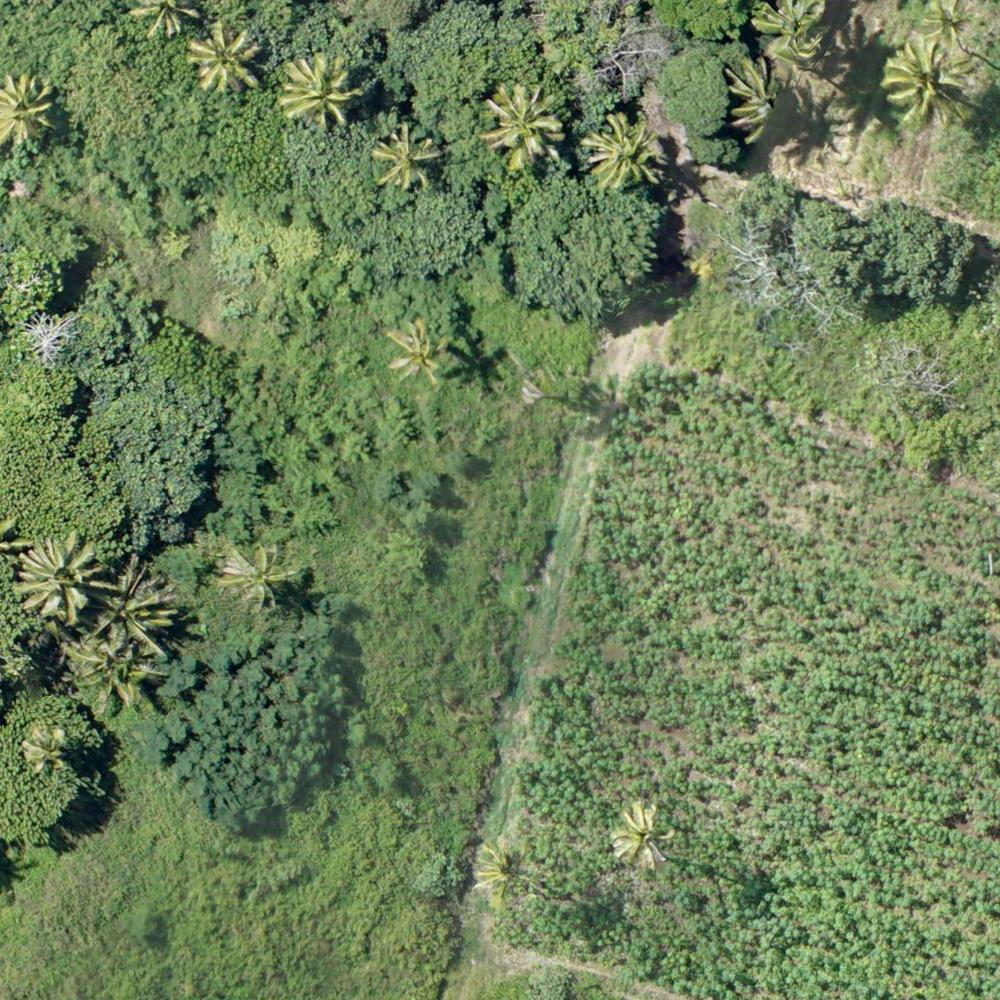Palm: (20, 535, 111, 623), (883, 43, 968, 126), (485, 78, 561, 163), (582, 111, 663, 189), (280, 51, 357, 129), (185, 18, 262, 90), (218, 543, 298, 608), (748, 1, 831, 63), (1, 74, 63, 154), (605, 801, 671, 872), (385, 318, 451, 380), (371, 123, 436, 185), (473, 835, 523, 902)
